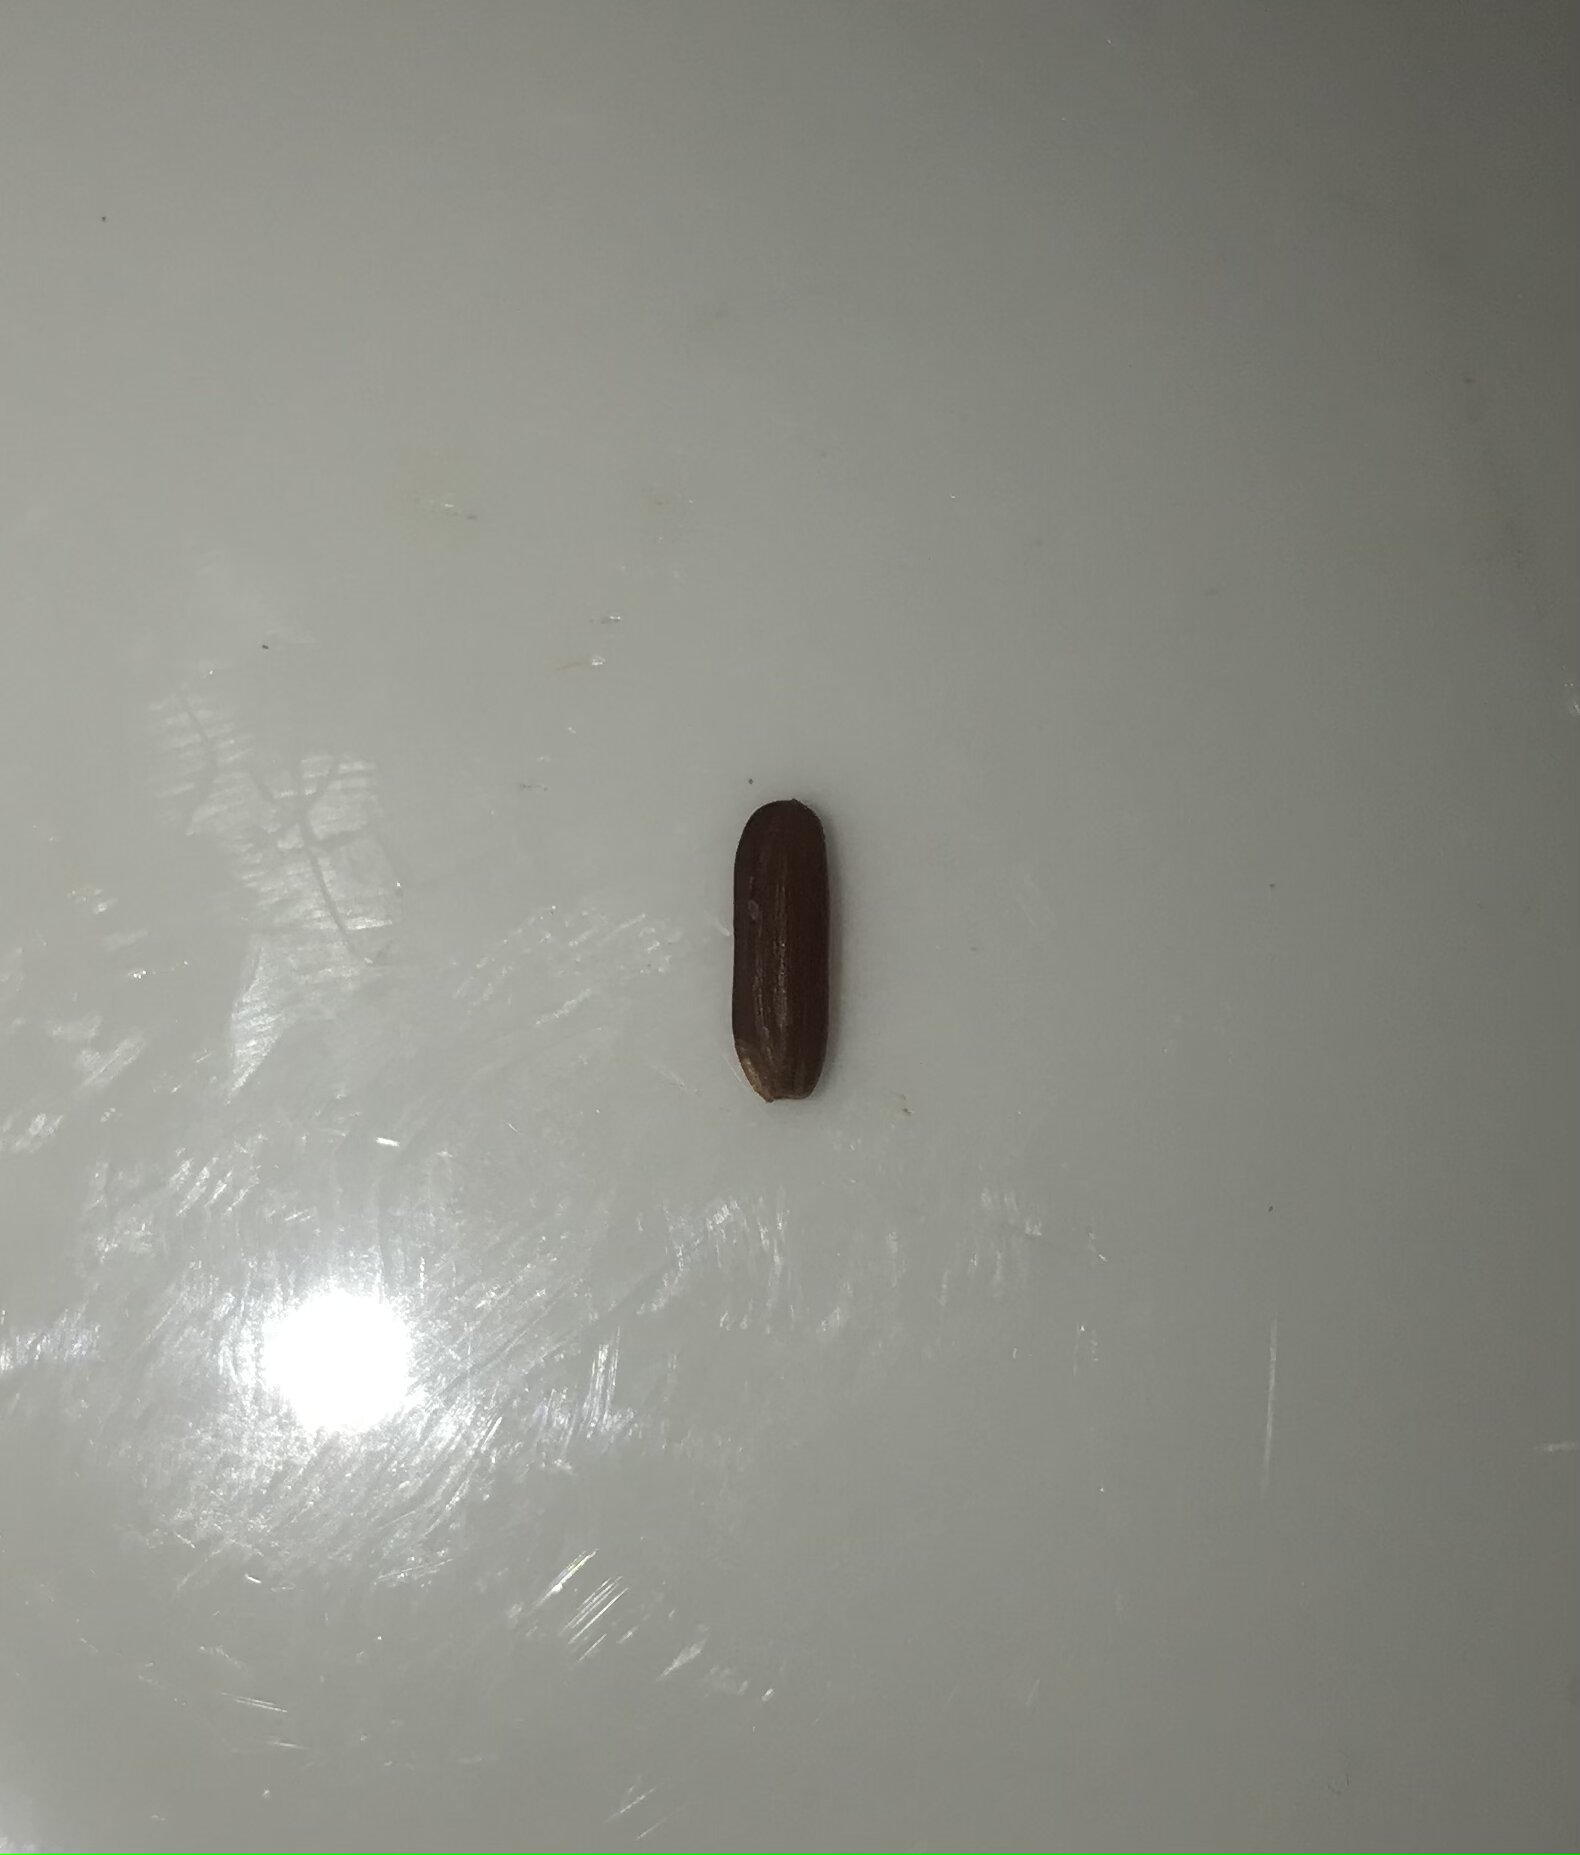Gao Huyet Rong: (701, 794, 878, 1122)
